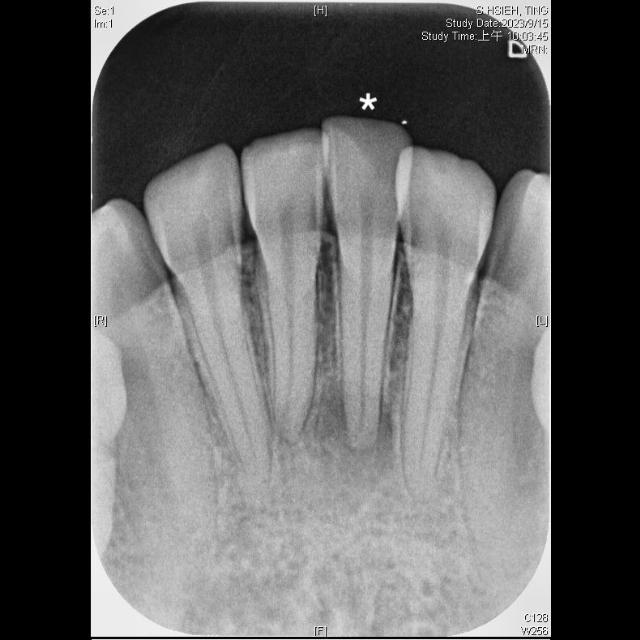test-segment: (321, 115, 412, 449)
